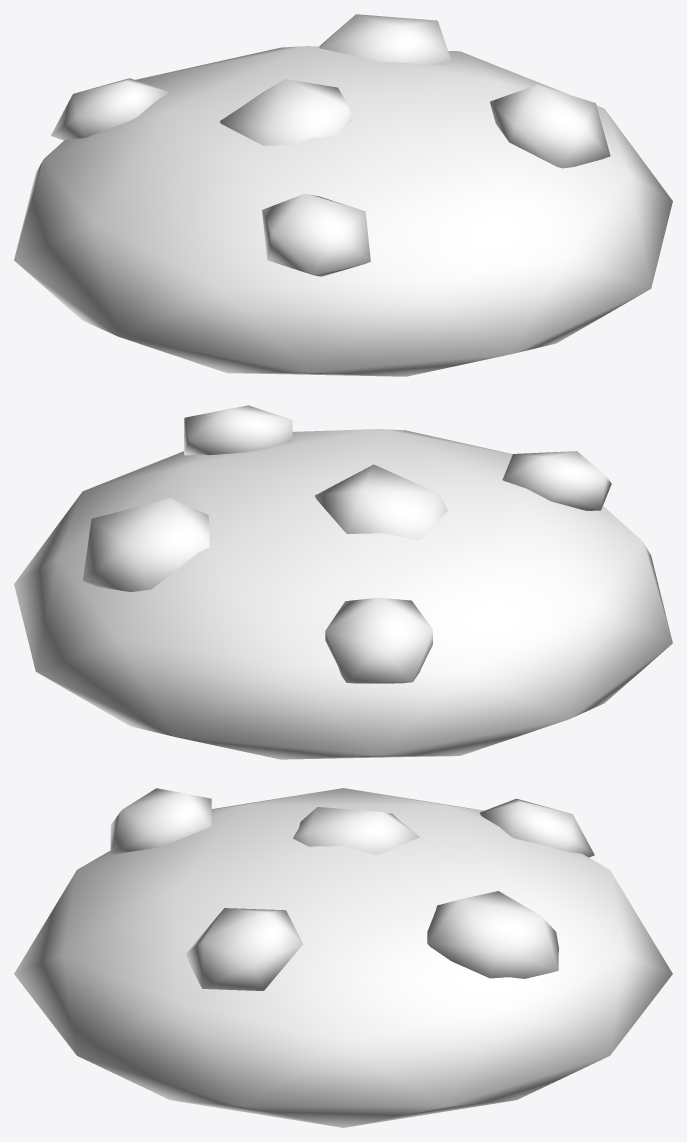
Rendered from Cookie.fbx.
The picture shows the model from 3 angles, top to bottom: view 1: azimuth 30°, elevation 25°; view 2: azimuth 150°, elevation 25°; view 3: azimuth 270°, elevation 25°; orthographic projection. The views are drawn at different scales.
Visible parts, largest first — view 1: Cookie; view 2: Cookie; view 3: Cookie.
Boxes of the visible parts, x1,y1,x2,y2 form: Cookie: (14, 14, 672, 376); Cookie: (14, 405, 672, 759); Cookie: (14, 788, 672, 1127).
Size of the model in its own units: 1.97 by 0.651 by 2.07.
